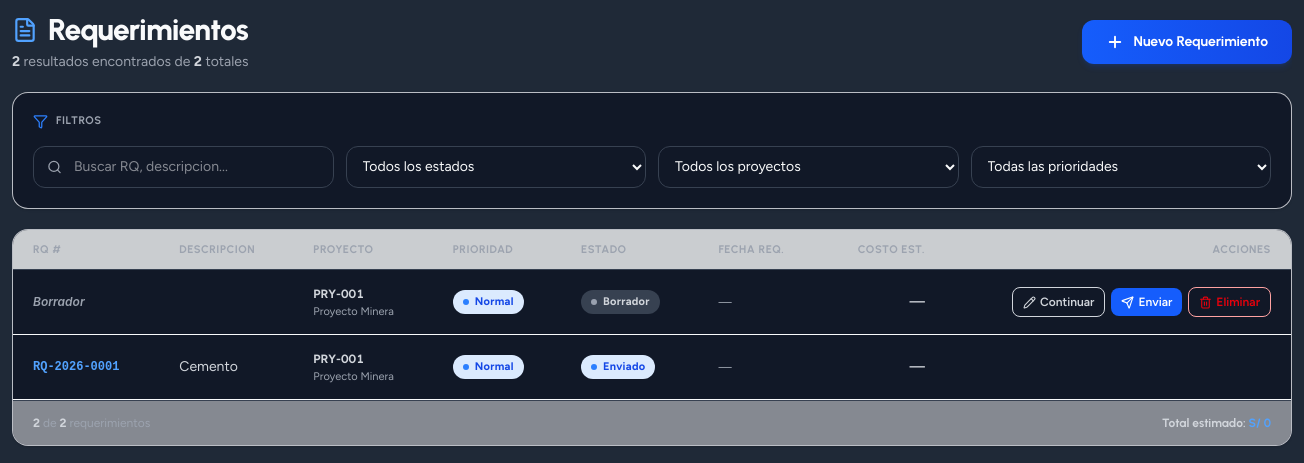
Test: RequestListPage — borradores (SYSPCC-031) › Enviar ejecuta el envío, avisa con el N° oficial y recarga la lista
The width and height of the screenshot is (1304, 463).
Click the button with aria-label "Enviar el borrador".
click(1147, 302)  # box [1111,288,1182,316]
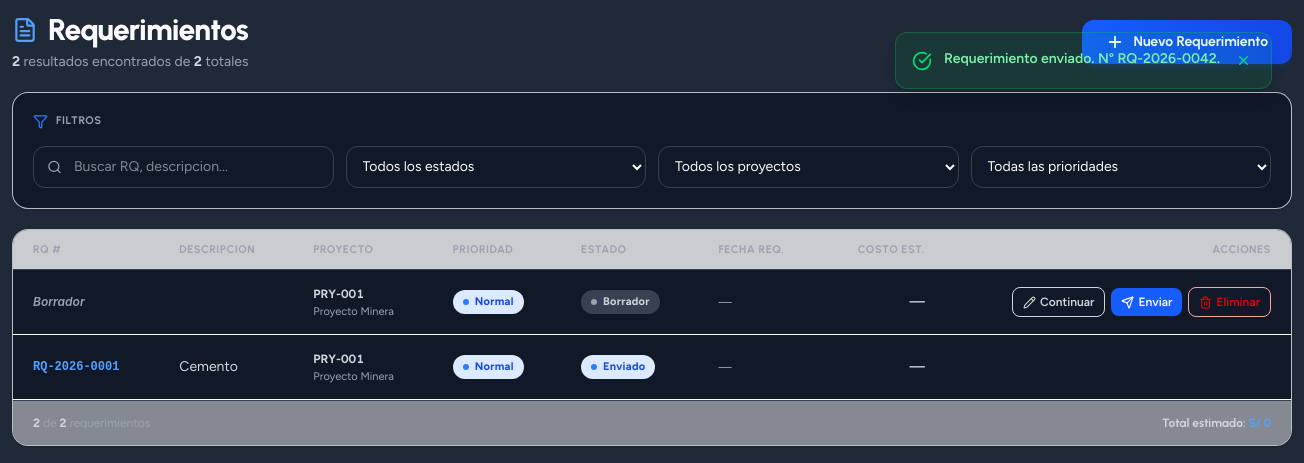
Result: the text "Requerimiento enviado. N° RQ-2026-0042." is shown at [944,49,1220,68]
